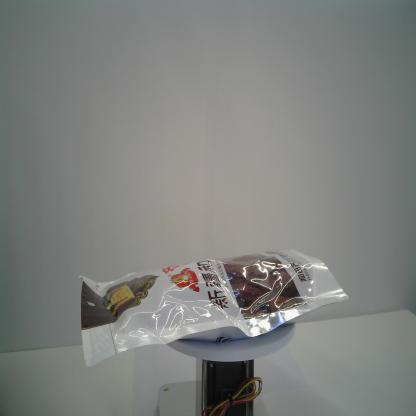Dried Food: (75, 246, 350, 371)
